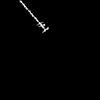treble_crochet: (20, 1, 47, 30)
